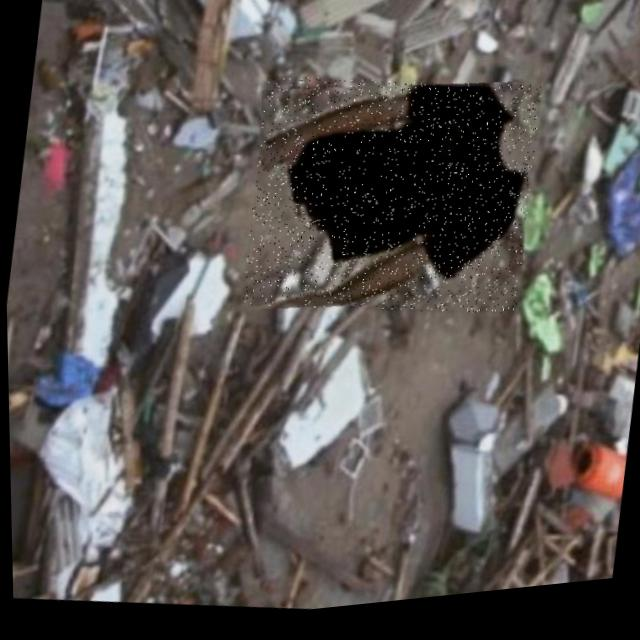Person in Rubble: (235, 60, 544, 348)
